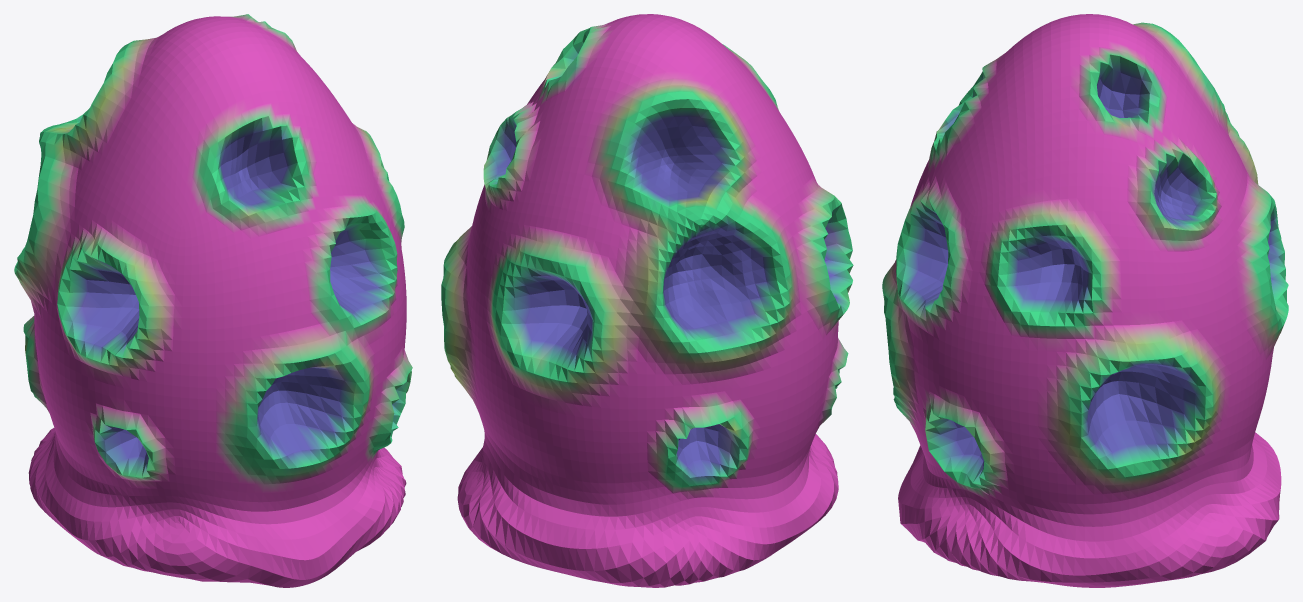
Rendered from StudioGameThing.fbx.
3 renders of one model, left to right at view 1: azimuth 30°, elevation 25°; view 2: azimuth 150°, elevation 25°; view 3: azimuth 270°, elevation 25°, orthographic. The views are drawn at different scales.
Visible parts, largest first — view 1: Quad Sphere; view 2: Quad Sphere; view 3: Quad Sphere.
Boxes of the visible parts, bbox=[...] form: Quad Sphere: bbox=[14, 14, 412, 587]; Quad Sphere: bbox=[441, 14, 853, 587]; Quad Sphere: bbox=[882, 14, 1288, 587].
Bounding box in the file's own units: 108 × 157 × 107.
